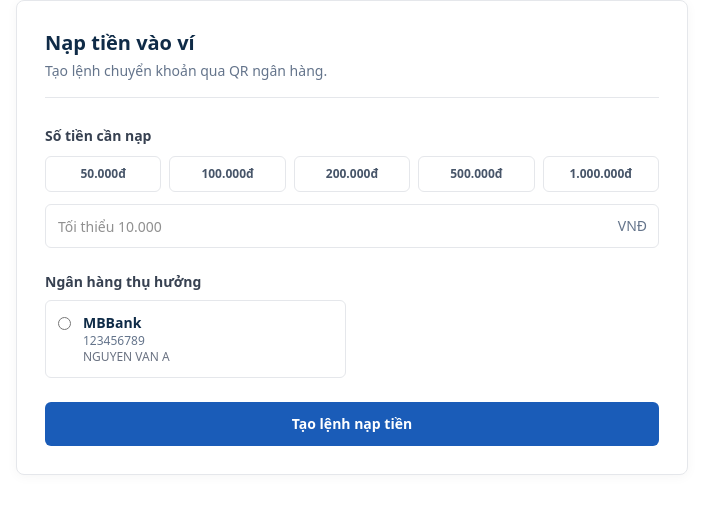
it: DepositPage › uses inline validation instead of submitting an invalid deposit
This screenshot has width=705, height=532.
Click the button "Tạo lệnh nạp tiền" at {"x": 352, "y": 424}, box top-left (45, 402), bottom-right (659, 446)
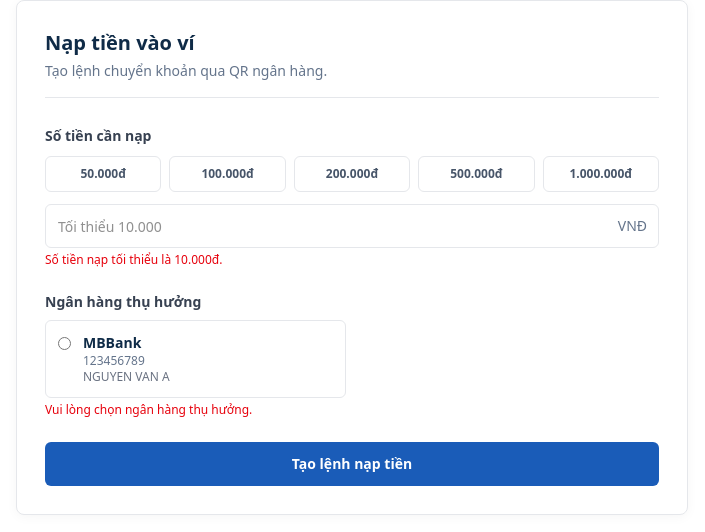
Check: the text "Số tiền nạp tối thiểu là 10.000đ." is shown, box top-left (45, 251), bottom-right (222, 268)
Check: the text "Vui lòng chọn ngân hàng thụ hưởng." is shown, box top-left (45, 401), bottom-right (252, 418)
